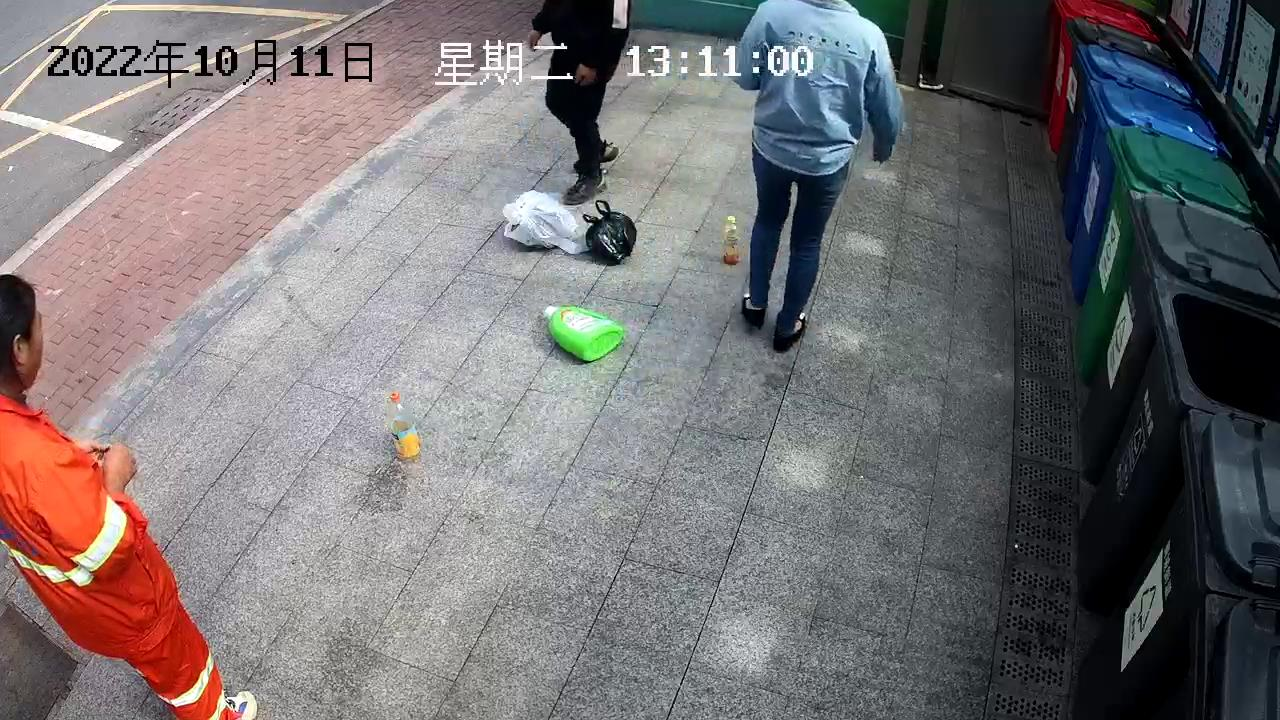garbage-bag: (501, 187, 585, 259), (581, 198, 639, 267)
person: (523, 1, 633, 206)
suliaozhipin: (538, 301, 627, 365), (385, 387, 424, 464), (719, 210, 742, 267)
worker: (1, 269, 259, 720), (730, 1, 905, 354)
